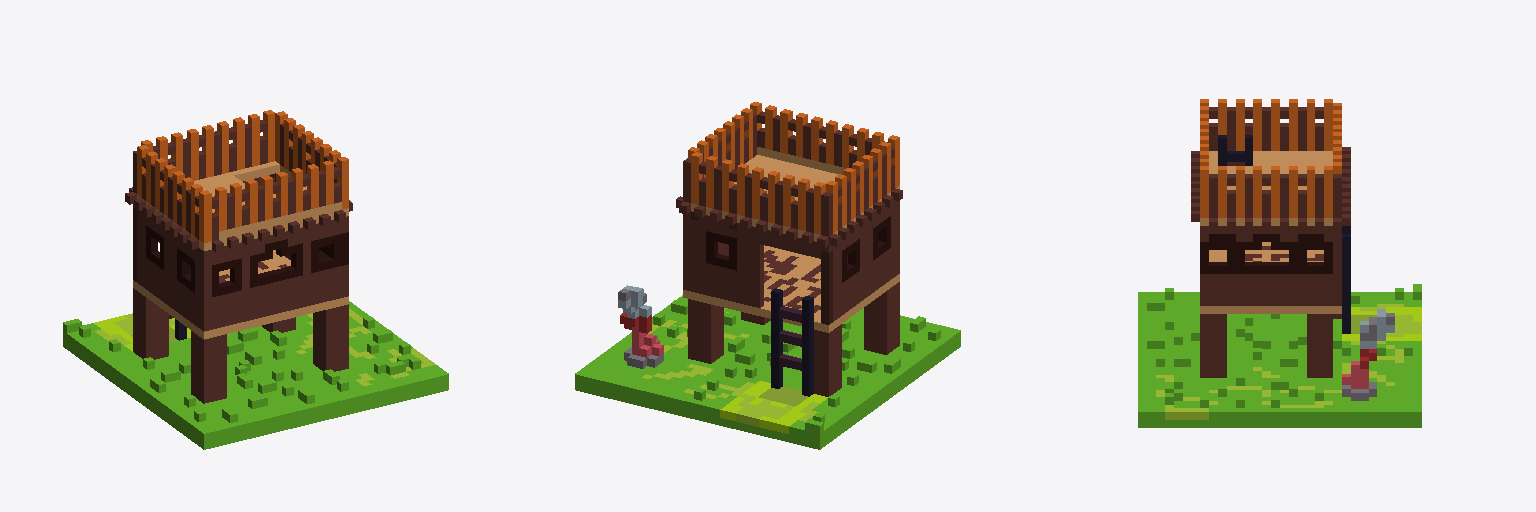
3 renders of one model, left to right at view 1: azimuth 30°, elevation 25°; view 2: azimuth 150°, elevation 25°; view 3: azimuth 270°, elevation 25°, orthographic.
Visible parts, largest first — view 1: object 1; view 2: object 1; view 3: object 1.
Boxes of the visible parts, <box> form: object 1: <box>63,110,448,449</box>; object 1: <box>575,102,960,449</box>; object 1: <box>1138,99,1421,427</box>.
Size of the model in its own units: 3.2 by 2.8 by 3.2.
Materials: 1 (1 with a texture image).